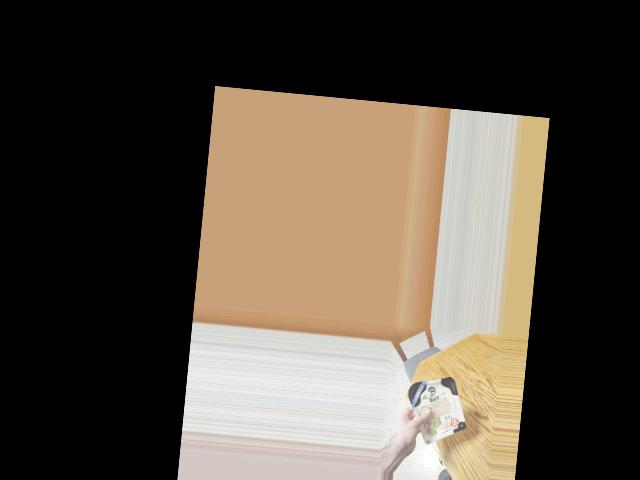cheese: (406, 370, 468, 436)
